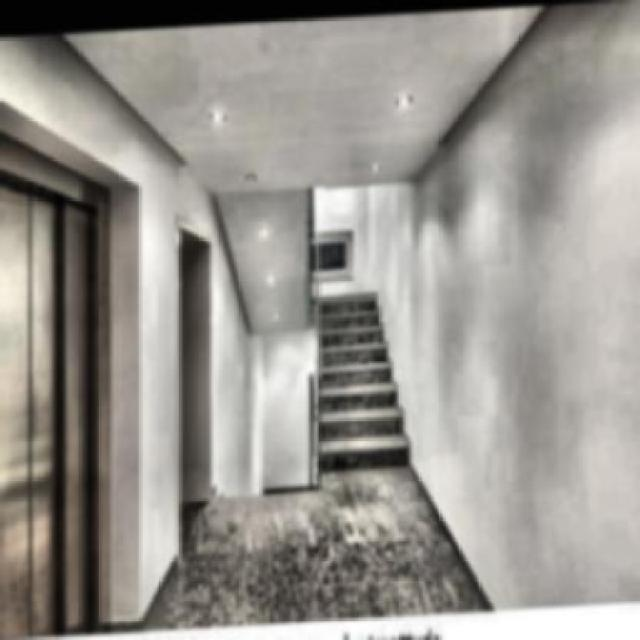stair: (315, 272, 415, 469)
